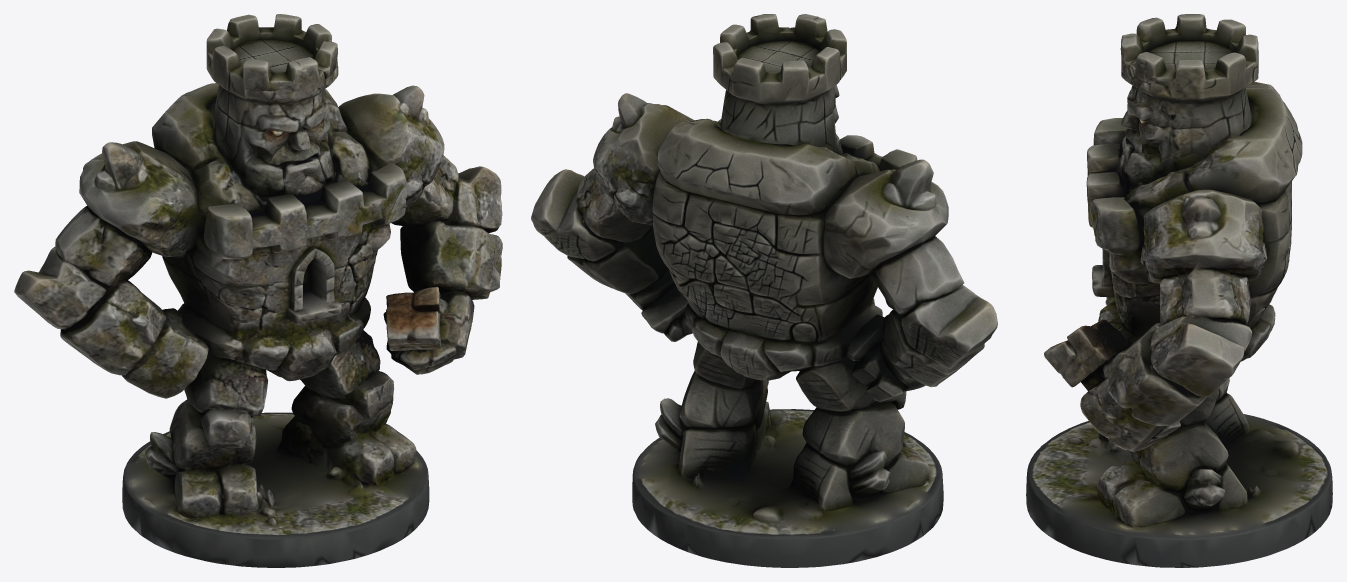
Rendered from rook.glb.
3 renders of one model, left to right at view 1: azimuth 30°, elevation 25°; view 2: azimuth 150°, elevation 25°; view 3: azimuth 270°, elevation 25°, orthographic.
Visible parts, largest first — view 1: world; view 2: world; view 3: world.
Boxes of the visible parts, x1=… form: world: x1=14, y1=14, x2=502, y2=567; world: x1=531, y1=14, x2=997, y2=567; world: x1=1026, y1=14, x2=1332, y2=567.
Size of the model in its own units: 0.9999 by 0.9625 by 0.5754.
1 material, 1 textured.
